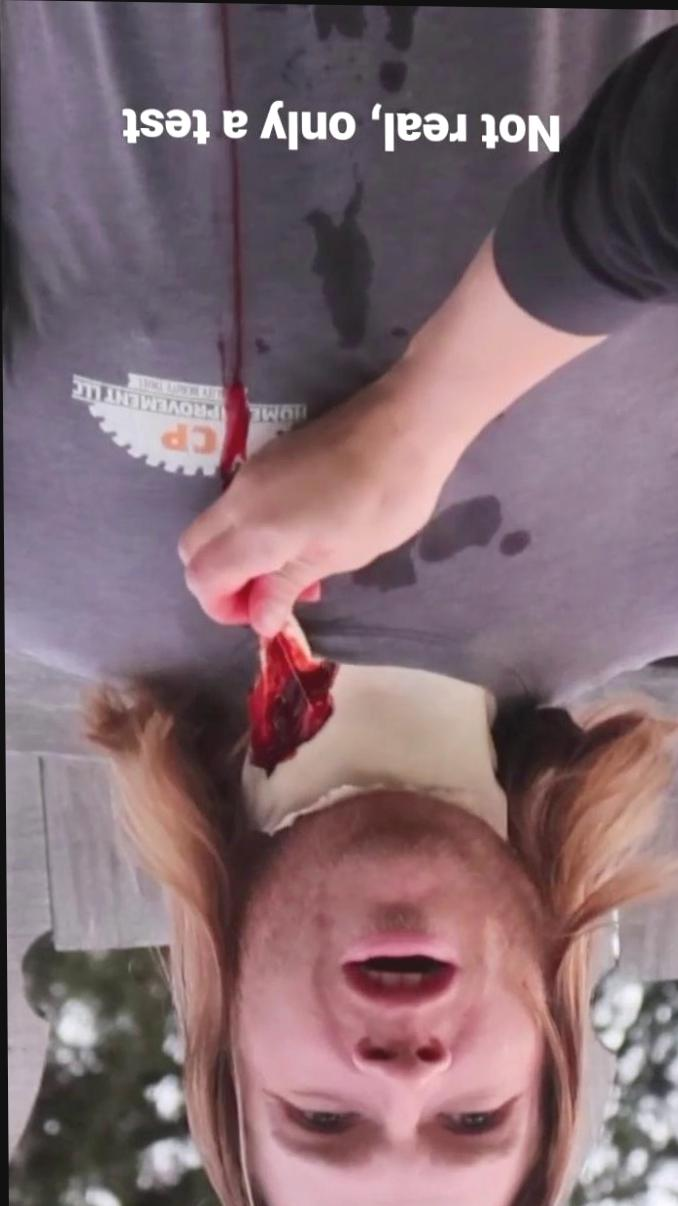Fire: (247, 616, 337, 774), (218, 137, 249, 490), (219, 3, 233, 105)
